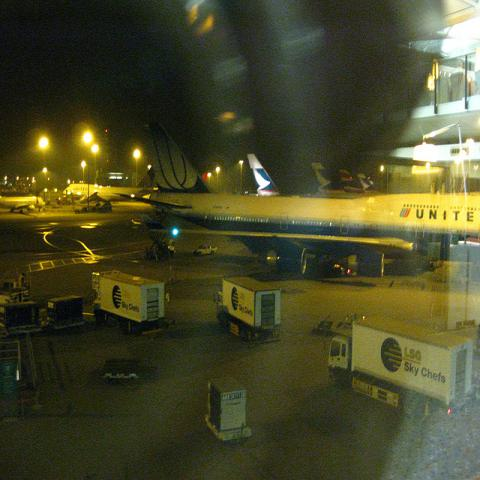truck: (325, 308, 477, 420), (92, 268, 165, 336), (220, 275, 280, 329)
